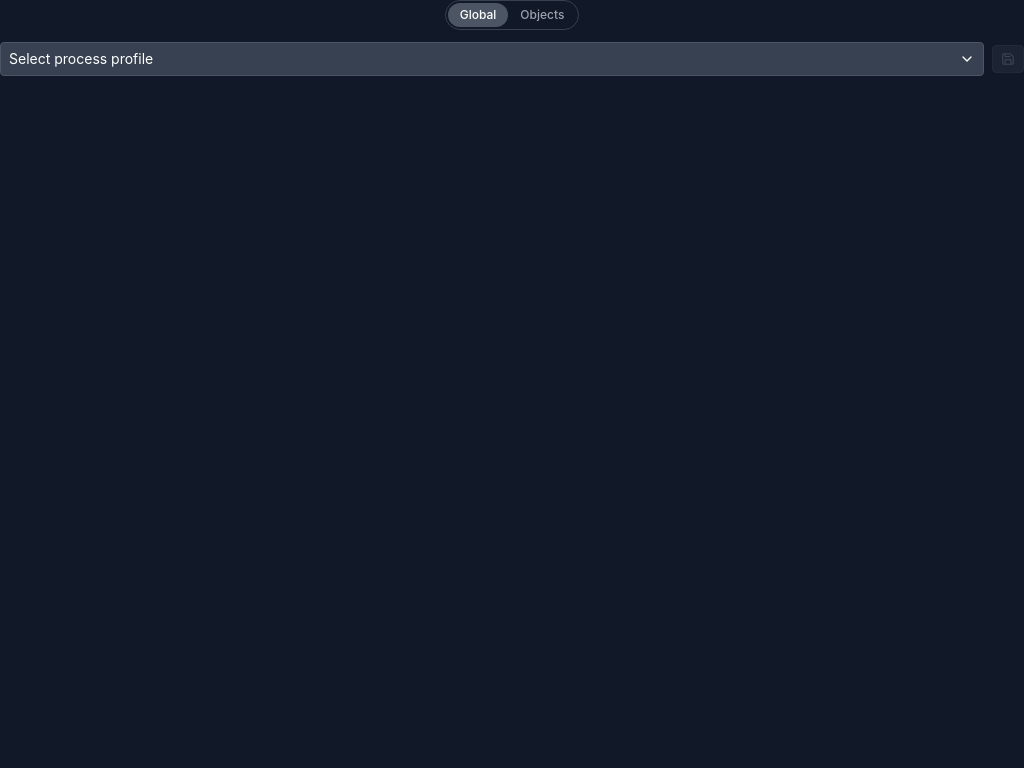
Test: ProcessSelector › deleting a saved process config while browsing the picker › shows a delete button next to a saved config while just browsing (not yet selected)
Click the button labelled "Select process profile" at (81, 58), box [0, 42, 984, 76]
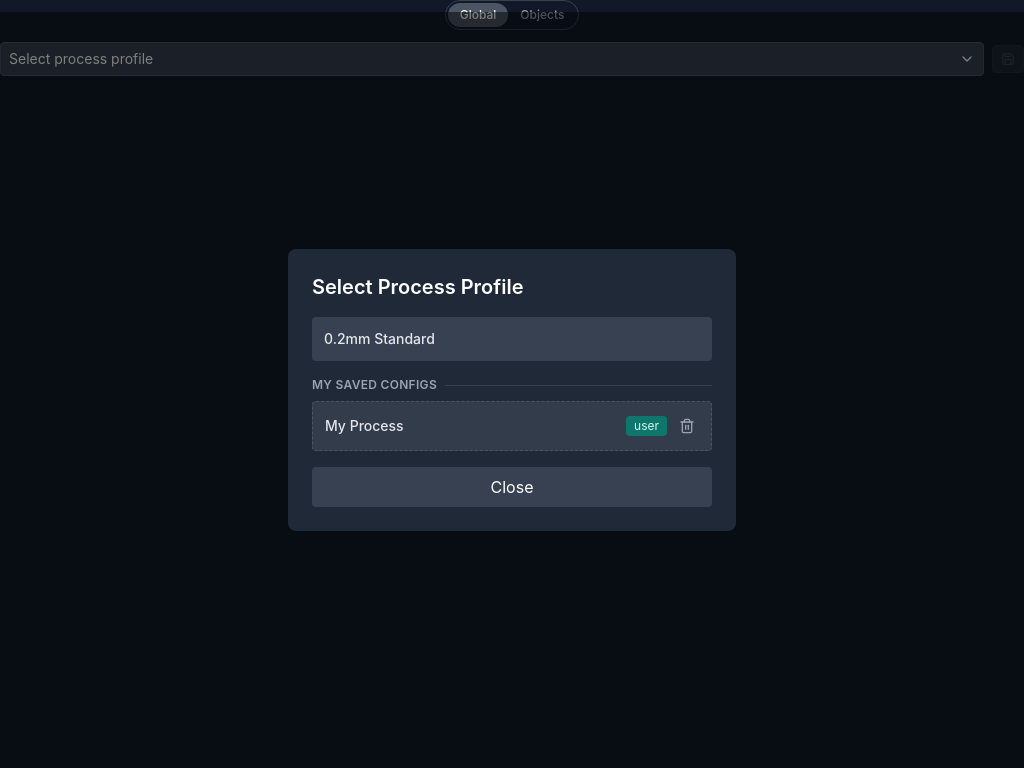
Check: the button named "Delete My Process" is shown, box [675, 414, 699, 438]
